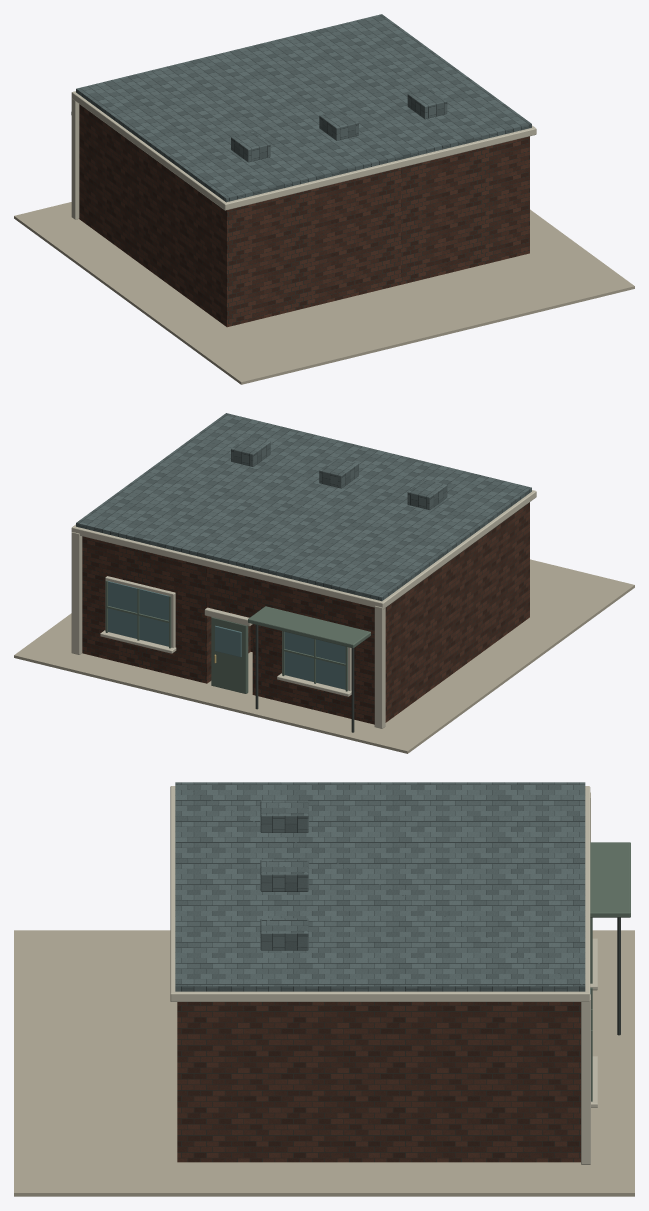
File: mortuary.glb
3 views of the same model, one above another, from view 1: azimuth 30°, elevation 25°; view 2: azimuth 150°, elevation 25°; view 3: azimuth 270°, elevation 25° (orthographic). The views are drawn at different scales.
Visible parts, largest first — view 1: masonry wing, slate flat roof, lot paving, limestone roof cornice; view 2: slate flat roof, masonry wing, lot paving, limestone roof cornice, recessed glass, sash stile, oak entry, entry glass, canopy support; view 3: slate flat roof, lot paving, masonry wing, limestone roof cornice, sash stile.
Part boxes in pixels (bbox=[...]): masonry wing: bbox=[79, 104, 529, 327]; slate flat roof: bbox=[76, 14, 531, 202]; lot paving: bbox=[14, 202, 634, 384]; limestone roof cornice: bbox=[71, 91, 536, 219]; slate flat roof: bbox=[76, 413, 531, 601]; masonry wing: bbox=[82, 502, 529, 724]; lot paving: bbox=[14, 559, 634, 753]; limestone roof cornice: bbox=[71, 490, 536, 728]; recessed glass: bbox=[108, 581, 345, 689]; sash stile: bbox=[105, 580, 370, 691]; oak entry: bbox=[211, 617, 248, 693]; entry glass: bbox=[215, 625, 241, 657]; canopy support: bbox=[255, 625, 354, 732]; slate flat roof: bbox=[175, 782, 585, 991]; lot paving: bbox=[14, 930, 634, 1196]; masonry wing: bbox=[177, 1002, 580, 1162]; limestone roof cornice: bbox=[170, 786, 597, 1164]; sash stile: bbox=[590, 842, 630, 1101].
Bounding box in the file's own units: 15.6 × 5.51 × 15.6.
8 materials, 2 textured.
